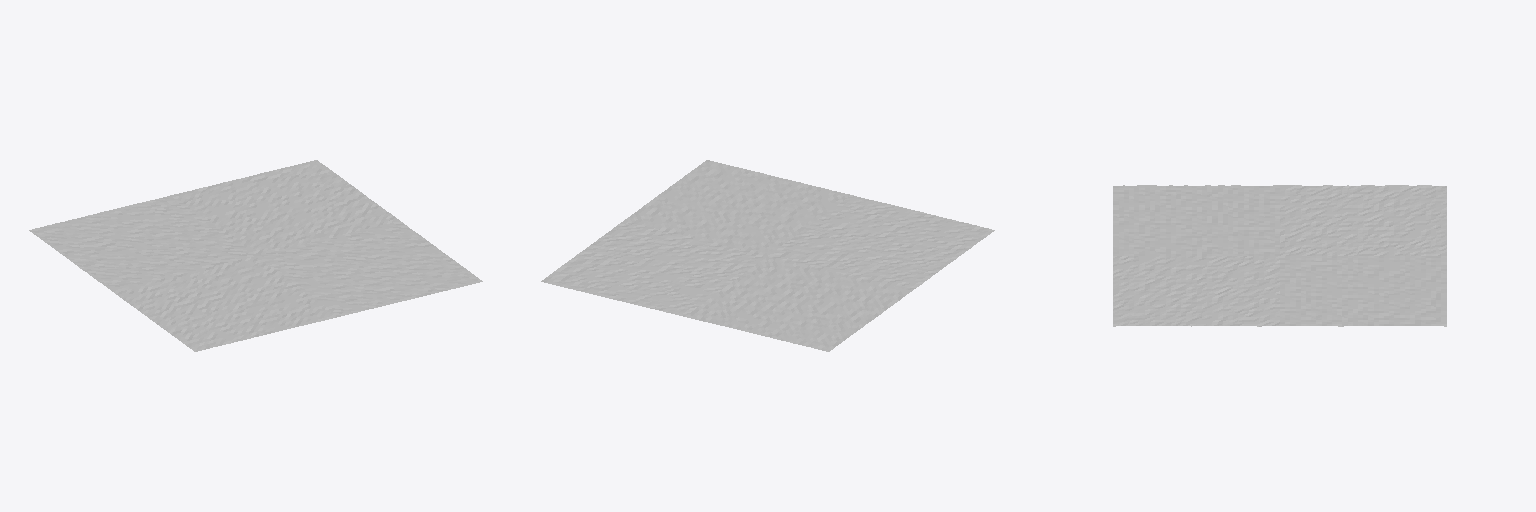
The model's file is ashpaltHeight.obj.
The picture shows the model from 3 angles: view 1: azimuth 30°, elevation 25°; view 2: azimuth 150°, elevation 25°; view 3: azimuth 270°, elevation 25°; orthographic projection.
Visible parts, largest first — view 1: asphaltHeight_Plane.004; view 2: asphaltHeight_Plane.004; view 3: asphaltHeight_Plane.004.
Boxes of the visible parts, box(x1,y1,x2,y2) form: asphaltHeight_Plane.004: box(29, 160, 482, 351); asphaltHeight_Plane.004: box(541, 160, 994, 351); asphaltHeight_Plane.004: box(1113, 185, 1446, 326).
Bounding box in the file's own units: 2 × 0.0028 × 2.